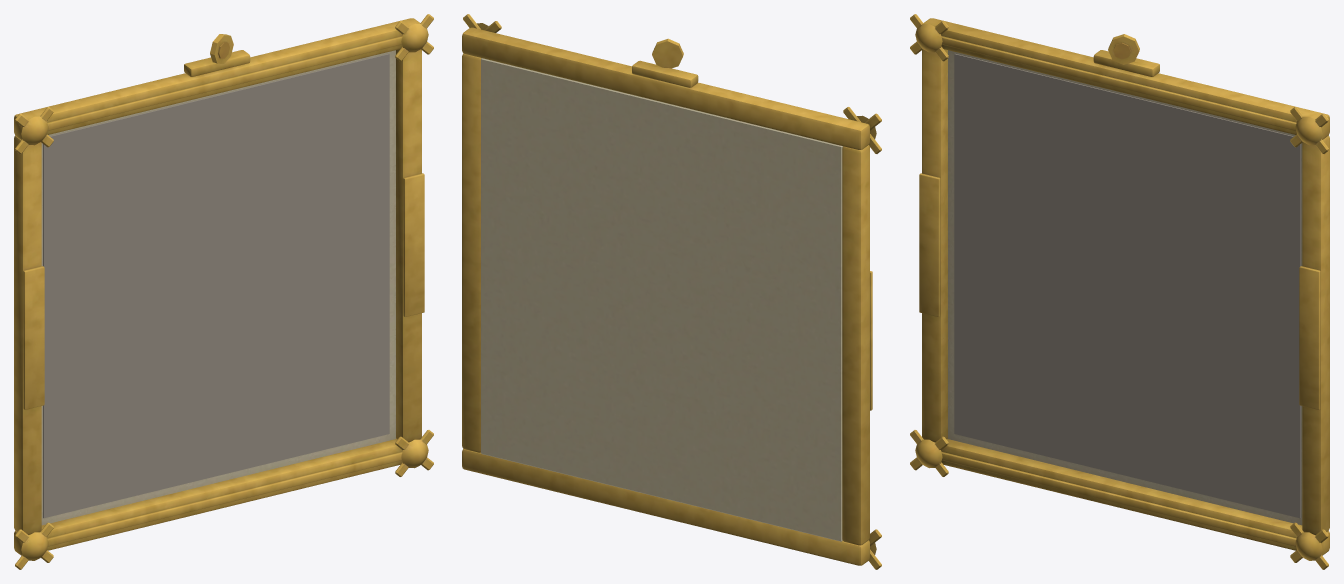
File: frame_painting_l.glb
The picture shows the model from 3 angles, left to right: view 1: azimuth 30°, elevation 25°; view 2: azimuth 150°, elevation 25°; view 3: azimuth 330°, elevation 25°; orthographic projection.
Visible parts, largest first — view 1: canvas, frame_painting_l; view 2: frame_painting_l; view 3: canvas, frame_painting_l.
Part boxes in pixels (box(x1,y1,x2,y2)): canvas: box(43, 53, 389, 518); frame_painting_l: box(14, 14, 433, 569); frame_painting_l: box(462, 14, 881, 569); canvas: box(954, 53, 1300, 518); frame_painting_l: box(910, 14, 1329, 569).
Size of the model in its own units: 4.89 by 5.38 by 0.325.
Materials: 2 (1 with a texture image).
